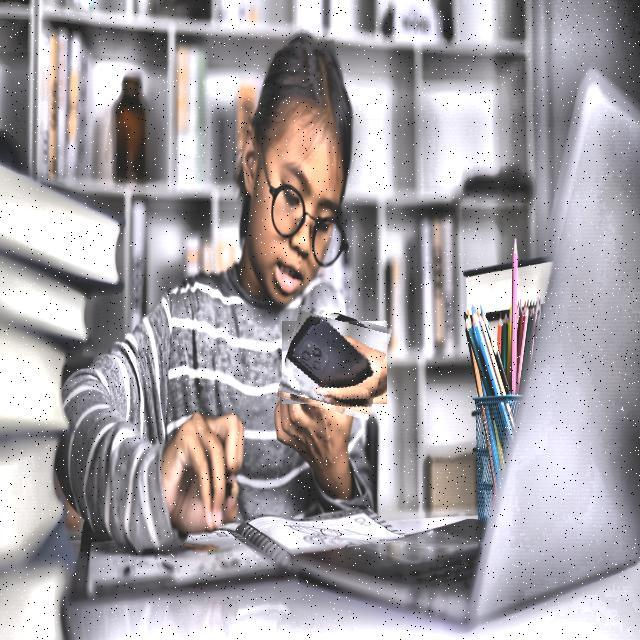Phone: (282, 310, 387, 415)
